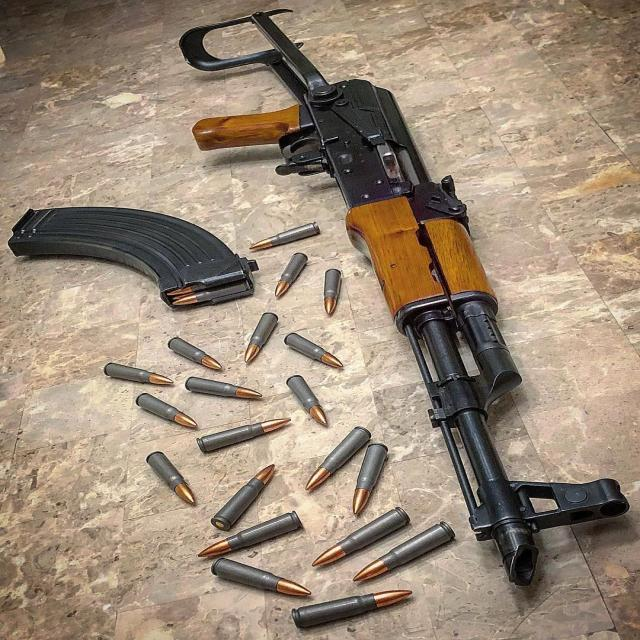ak: (172, 10, 640, 592)
